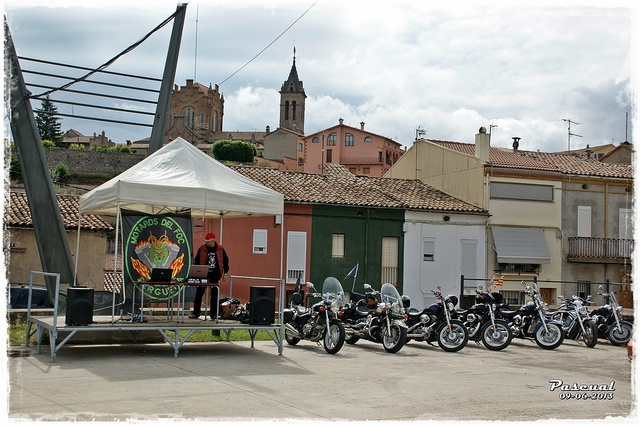non-vehicle: (283, 276, 352, 353), (339, 282, 408, 352), (400, 285, 468, 351), (498, 280, 564, 348), (455, 285, 512, 349), (542, 294, 596, 347), (588, 284, 633, 345)
